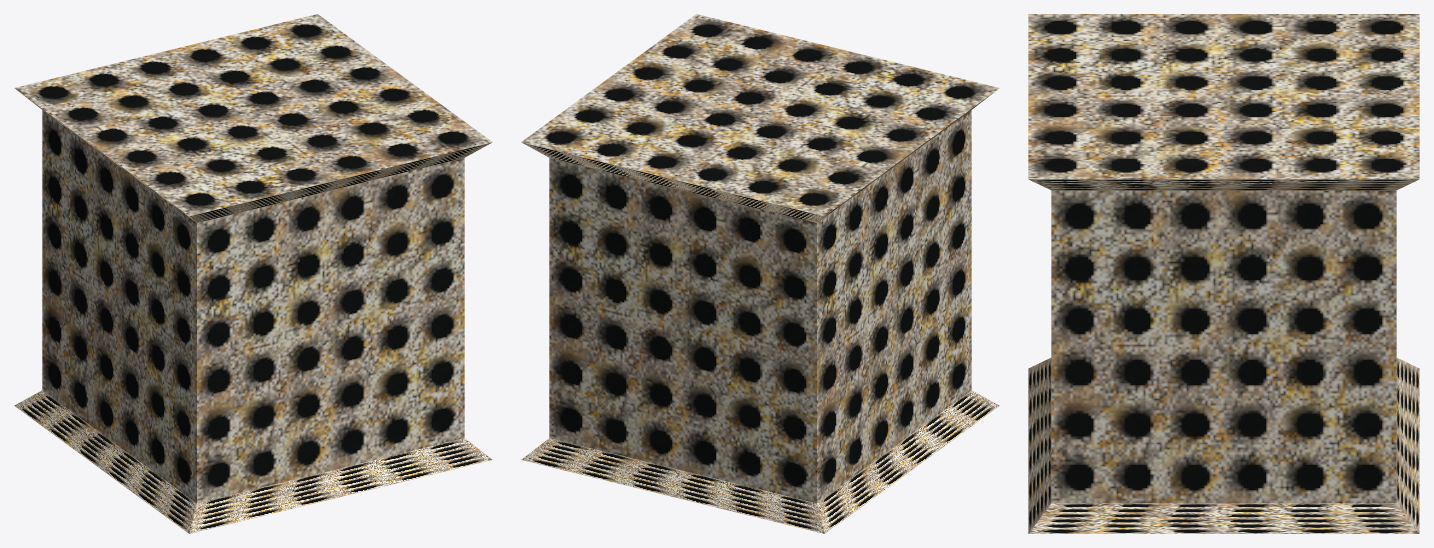
The model's file is Crate.glb.
3 renders of one model, left to right at view 1: azimuth 30°, elevation 25°; view 2: azimuth 150°, elevation 25°; view 3: azimuth 270°, elevation 25°, orthographic. The views are drawn at different scales.
Visible parts, largest first — view 1: Cube; view 2: Cube; view 3: Cube.
Boxes of the visible parts, x1,y1,x2,y2 form: Cube: (14, 14, 492, 533); Cube: (521, 14, 999, 533); Cube: (1028, 14, 1419, 533).
Bounding box in the file's own units: 2 × 2 × 2.
1 material, 1 textured.
